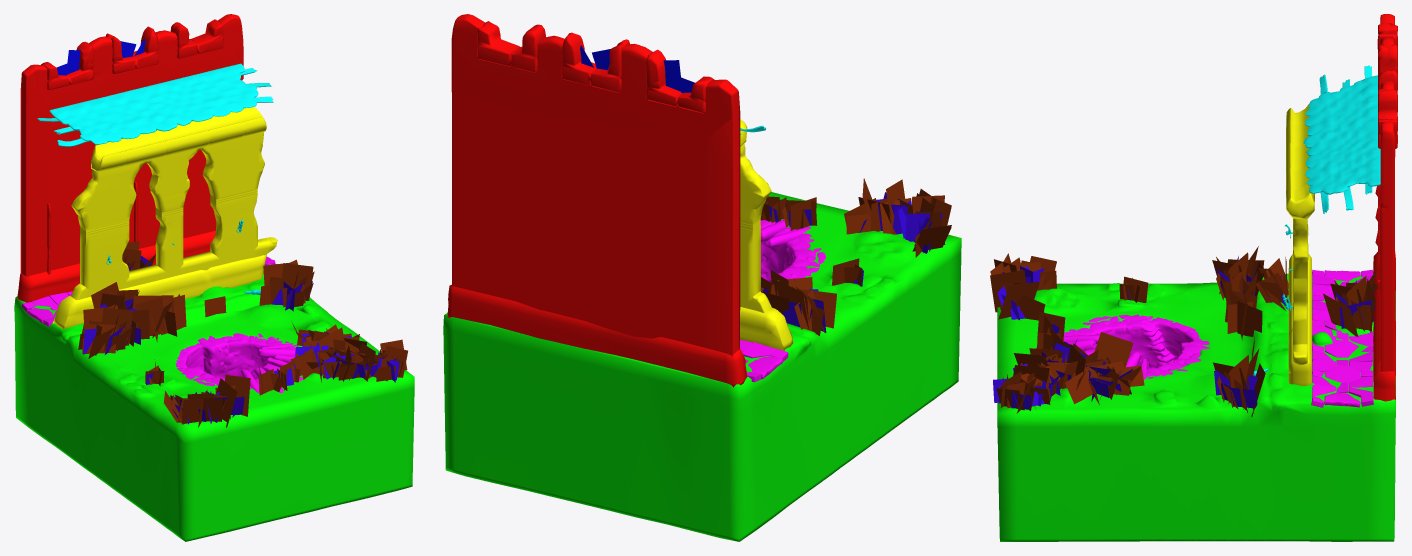
3 views of the same model, side by side, from view 1: azimuth 30°, elevation 25°; view 2: azimuth 150°, elevation 25°; view 3: azimuth 270°, elevation 25° (orthographic). The views are drawn at different scales.
Visible parts, largest first — view 1: ground, backWall, frontWall, grass2, roof, well, grass1, wellStones, walkway, windows, wood; view 2: backWall, ground, grass2, frontWall, well, grass1, walkway, windows, wellStones; view 3: ground, grass2, backWall, roof, frontWall, walkway, well, grass1, wellStones, wood.
Part boxes in pixels (<box>): ground: <box>14,264,414,541</box>; backWall: <box>17,14,243,302</box>; frontWall: <box>52,107,277,329</box>; grass2: <box>78,241,407,427</box>; roof: <box>49,63,258,144</box>; well: <box>175,333,298,389</box>; grass1: <box>83,256,399,424</box>; wellStones: <box>241,343,303,393</box>; walkway: <box>22,256,276,326</box>; windows: <box>56,38,145,75</box>; wood: <box>37,68,273,146</box>; backWall: <box>447,14,747,387</box>; ground: <box>443,192,961,541</box>; grass2: <box>760,178,951,336</box>; frontWall: <box>740,119,793,350</box>; well: <box>760,220,825,282</box>; grass1: <box>763,192,942,332</box>; walkway: <box>740,339,788,382</box>; windows: <box>580,45,694,93</box>; wellStones: <box>761,219,810,248</box>; ground: <box>997,273,1395,541</box>; grass2: <box>990,246,1377,416</box>; backWall: <box>1373,14,1397,401</box>; roof: <box>1303,75,1380,194</box>; frontWall: <box>1286,103,1314,385</box>; walkway: <box>1311,269,1373,407</box>; well: <box>1063,314,1209,378</box>; grass1: <box>993,256,1375,410</box>; wellStones: <box>1035,335,1147,379</box>; wood: <box>1319,65,1372,213</box>.
Size of the model in its own units: 1.4 by 2 by 1.75.
